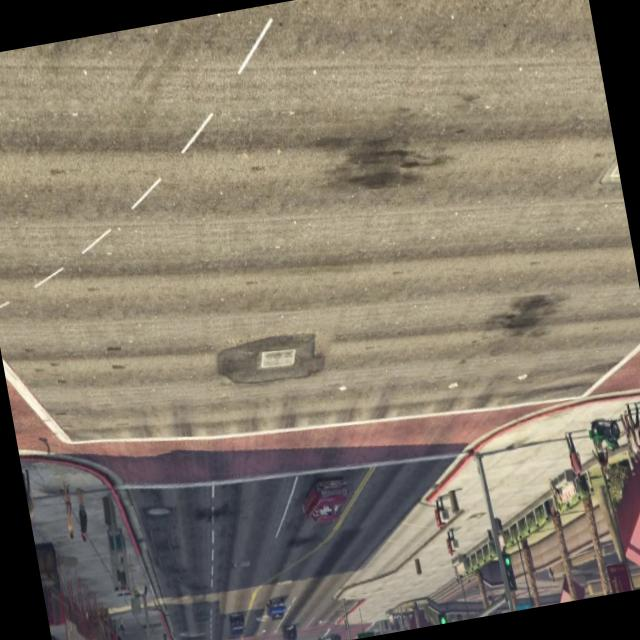Green-Signal: (498, 542, 520, 599), (351, 619, 379, 639), (434, 604, 449, 624)
